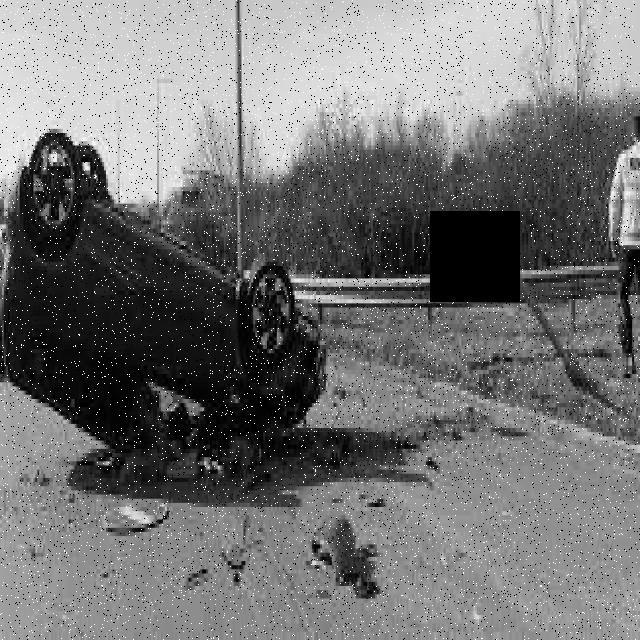severe: (0, 116, 332, 482)
